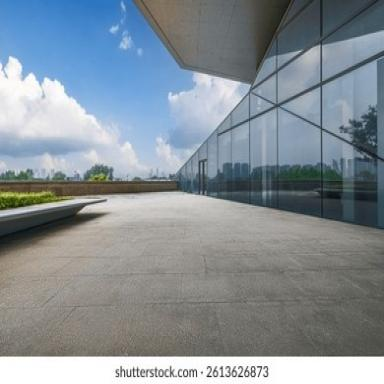glass_panel: (322, 132, 377, 226), (323, 62, 378, 155), (323, 2, 384, 80), (278, 110, 321, 215), (278, 0, 320, 67), (250, 110, 277, 207), (278, 46, 320, 102), (323, 0, 372, 36), (230, 122, 249, 203), (282, 88, 321, 125), (253, 40, 277, 86), (218, 130, 232, 199), (207, 132, 218, 196), (252, 75, 277, 103), (284, 0, 311, 25), (250, 92, 274, 118), (231, 95, 249, 126), (192, 152, 199, 194), (218, 114, 231, 134), (186, 159, 193, 192), (198, 142, 207, 160)
